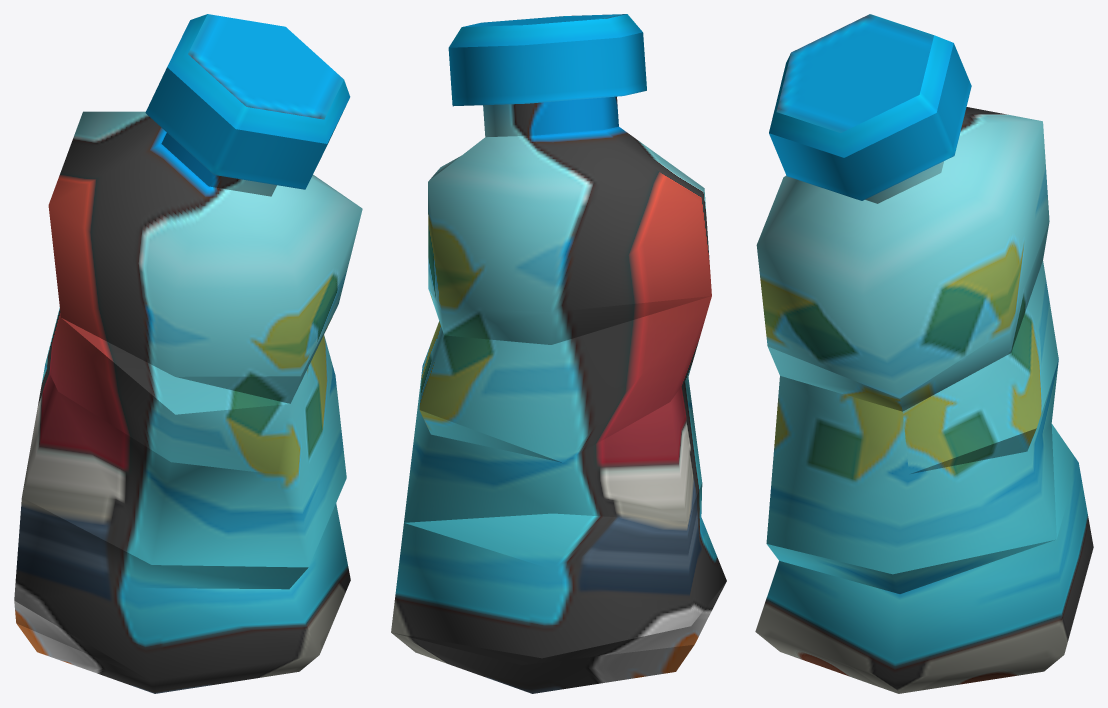
Rendered from Trash_PlasticBottle.fbx.
3 views of the same model, side by side, from view 1: azimuth 30°, elevation 25°; view 2: azimuth 150°, elevation 25°; view 3: azimuth 270°, elevation 25° (orthographic).
Visible parts, largest first — view 1: Trash_PlasticBottle; view 2: Trash_PlasticBottle; view 3: Trash_PlasticBottle.
Boxes of the visible parts, x1=… form: Trash_PlasticBottle: x1=14, y1=14, x2=362, y2=693; Trash_PlasticBottle: x1=391, y1=14, x2=726, y2=693; Trash_PlasticBottle: x1=755, y1=14, x2=1093, y2=693.
Bounding box in the file's own units: 40.06 × 76.07 × 38.3.
